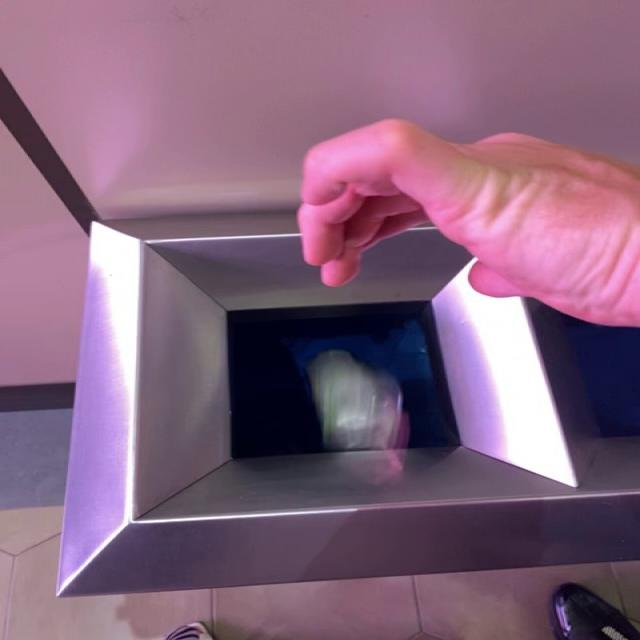metal: (307, 350, 409, 450)
